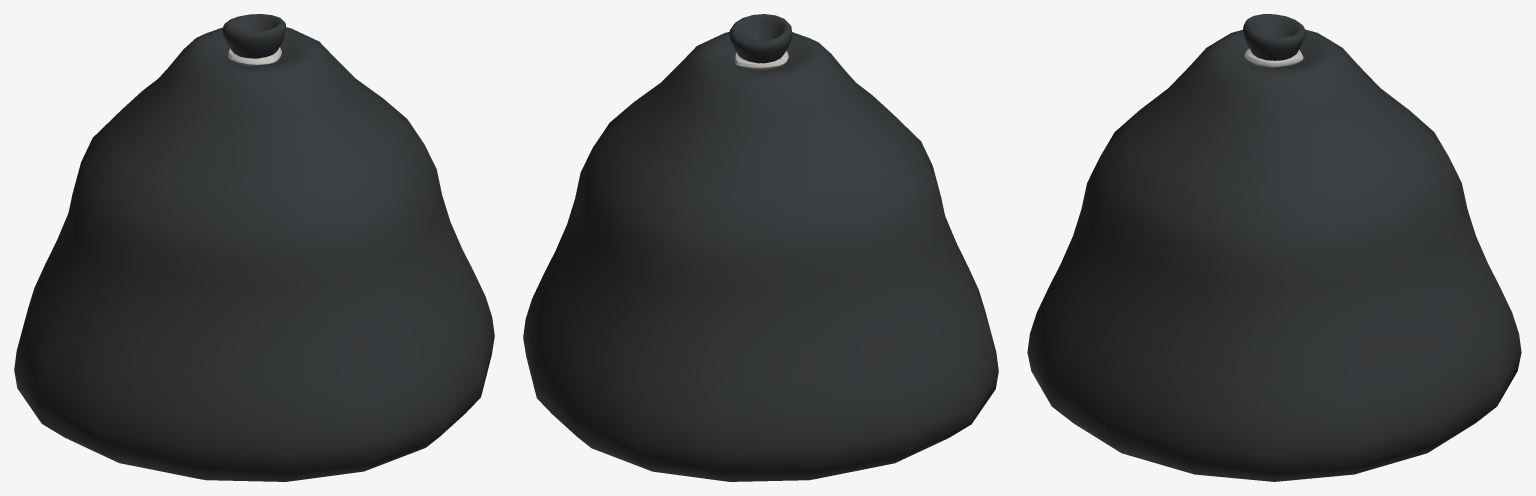
The model's file is Bolsa_04.fbx.
The picture shows the model from 3 angles, left to right: view 1: azimuth 30°, elevation 25°; view 2: azimuth 150°, elevation 25°; view 3: azimuth 270°, elevation 25°; orthographic projection.
Visible parts, largest first — view 1: Bolsa_04; view 2: Bolsa_04; view 3: Bolsa_04.
Boxes of the visible parts, x1,y1,x2,y2 form: Bolsa_04: (14, 14, 494, 481); Bolsa_04: (523, 14, 998, 481); Bolsa_04: (1027, 14, 1521, 481).
Bounding box in the file's own units: 100 × 91.04 × 100.
